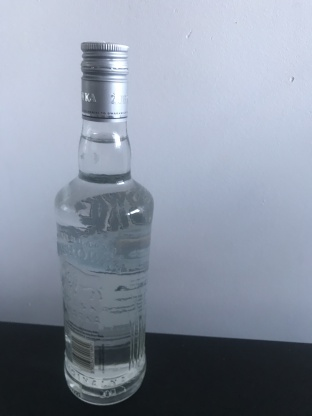nakretka: (79, 40, 129, 123)
